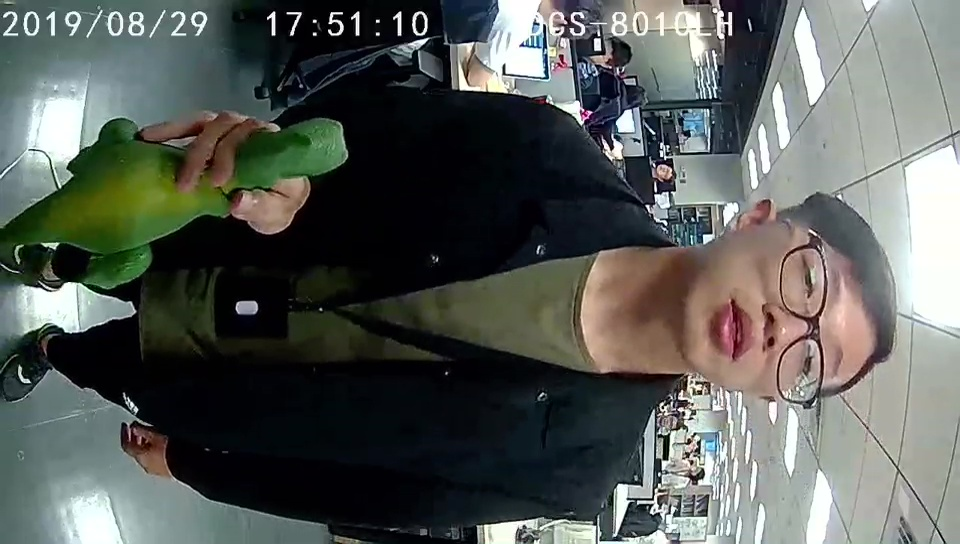rex: (42, 114, 350, 290)
